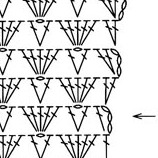enseble_chain: (89, 41, 125, 83), (69, 15, 106, 52), (34, 101, 69, 138), (72, 73, 106, 109), (35, 45, 67, 81), (0, 16, 31, 53), (52, 14, 82, 51), (0, 74, 31, 109), (29, 17, 60, 51), (16, 45, 45, 80), (53, 73, 81, 108), (72, 130, 106, 158), (31, 76, 60, 108), (52, 129, 82, 158), (71, 47, 97, 78), (72, 104, 97, 136), (0, 131, 29, 158), (90, 103, 113, 137), (101, 17, 123, 48), (33, 133, 60, 158), (24, 19, 46, 49), (0, 48, 21, 79), (99, 76, 119, 106), (131, 108, 158, 125), (112, 0, 126, 20), (34, 0, 47, 18)
fan: (23, 47, 45, 78), (26, 133, 46, 158), (65, 134, 83, 158), (69, 77, 85, 103), (100, 135, 113, 158)
